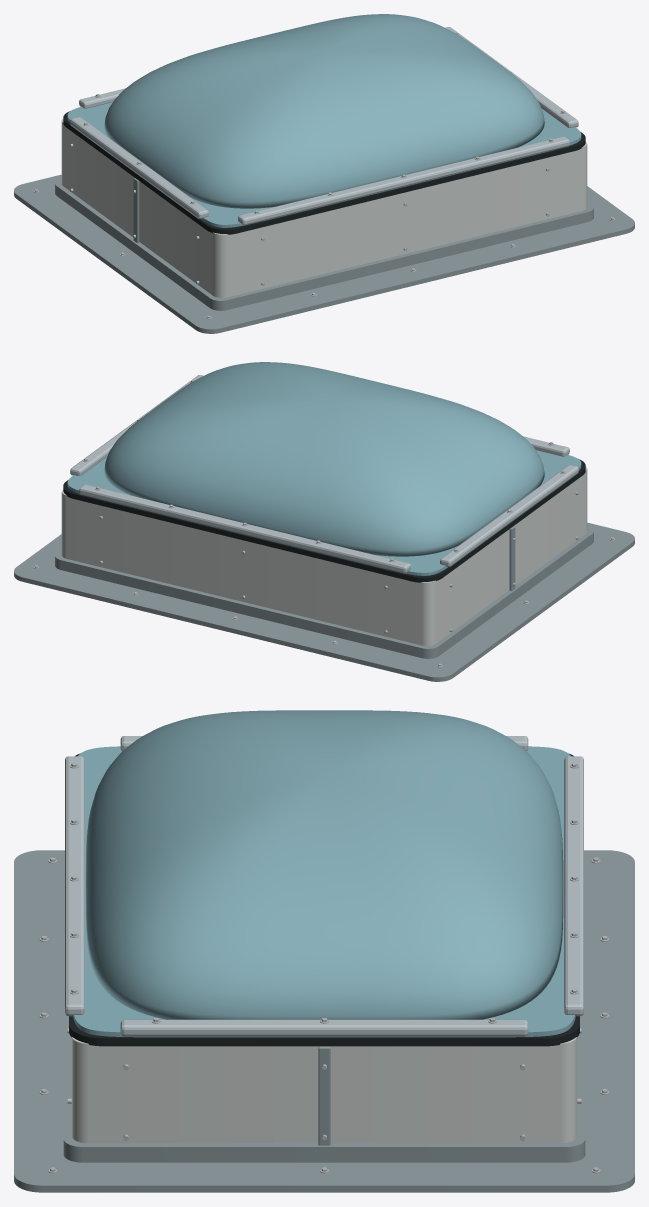
File: city-domed-roof-skylight.glb
The picture shows the model from 3 angles, top to bottom: view 1: azimuth 30°, elevation 25°; view 2: azimuth 150°, elevation 25°; view 3: azimuth 270°, elevation 25°; orthographic projection. The views are drawn at different scales.
Parts seen in each view (by area): view 1: Assembly | Opaque smoke-blue rooflight surface, Assembly | Warm gray insulated curb outer sheet, Assembly | Galvanized rear mounting hardware, Assembly | Brushed natural aluminium, Assembly | Black EPDM seals, Assembly | Satin stainless fasteners; view 2: Assembly | Opaque smoke-blue rooflight surface, Assembly | Warm gray insulated curb outer sheet, Assembly | Galvanized rear mounting hardware, Assembly | Brushed natural aluminium, Assembly | Black EPDM seals, Assembly | Satin stainless fasteners; view 3: Assembly | Opaque smoke-blue rooflight surface, Assembly | Galvanized rear mounting hardware, Assembly | Warm gray insulated curb outer sheet, Assembly | Brushed natural aluminium, Assembly | Black EPDM seals, Assembly | Satin stainless fasteners.
Boxes of the visible parts, bbox=[...] form: Assembly | Opaque smoke-blue rooflight surface: bbox=[67, 14, 581, 227]; Assembly | Warm gray insulated curb outer sheet: bbox=[61, 118, 587, 297]; Assembly | Galvanized rear mounting hardware: bbox=[14, 174, 634, 333]; Assembly | Brushed natural aluminium: bbox=[70, 27, 578, 225]; Assembly | Black EPDM seals: bbox=[63, 111, 585, 234]; Assembly | Satin stainless fasteners: bbox=[33, 32, 615, 319]; Assembly | Opaque smoke-blue rooflight surface: bbox=[67, 362, 581, 575]; Assembly | Warm gray insulated curb outer sheet: bbox=[61, 466, 587, 645]; Assembly | Galvanized rear mounting hardware: bbox=[14, 522, 634, 681]; Assembly | Brushed natural aluminium: bbox=[70, 375, 578, 573]; Assembly | Black EPDM seals: bbox=[63, 459, 585, 582]; Assembly | Satin stainless fasteners: bbox=[33, 380, 615, 667]; Assembly | Opaque smoke-blue rooflight surface: bbox=[73, 710, 575, 1037]; Assembly | Galvanized rear mounting hardware: bbox=[14, 850, 634, 1192]; Assembly | Warm gray insulated curb outer sheet: bbox=[72, 1037, 576, 1143]; Assembly | Brushed natural aluminium: bbox=[65, 736, 583, 1036]; Assembly | Black EPDM seals: bbox=[69, 753, 579, 1046]; Assembly | Satin stainless fasteners: bbox=[39, 762, 609, 1173].
Bounding box in the file's own units: 1.84 × 0.641 × 1.44.
